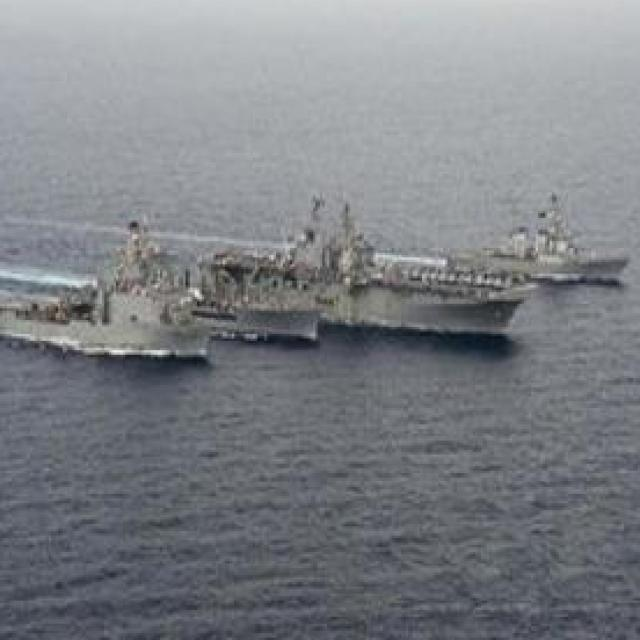navalvessels: (294, 200, 517, 349), (2, 239, 232, 377), (180, 250, 353, 375), (486, 179, 620, 284)
